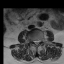CCS_normal: (35, 37, 37, 46)
LFS_normal: (40, 37, 42, 44)
LLS_normal: (37, 37, 40, 45)
RFS_stenosis: (31, 37, 33, 44)
RLS_normal: (33, 38, 35, 45)
